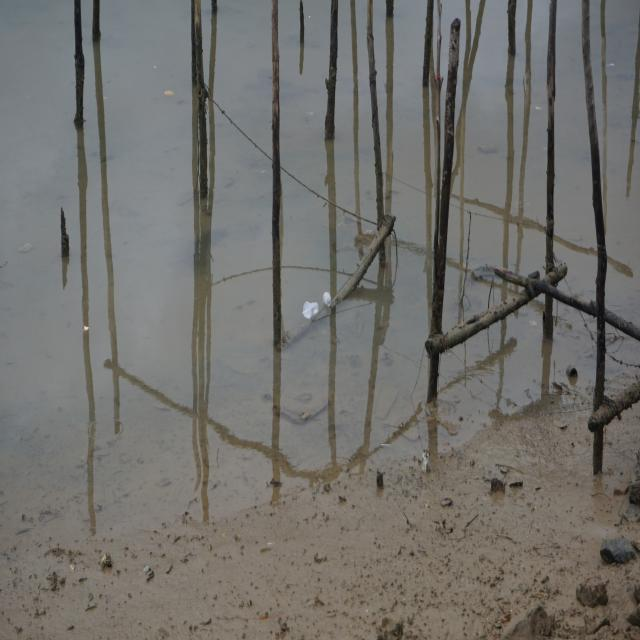Bungkus Minuman: (301, 296, 323, 321), (324, 288, 334, 312)
